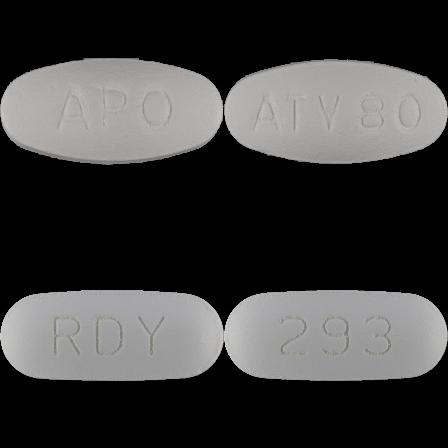68788-8991: (0, 0, 224, 224)
